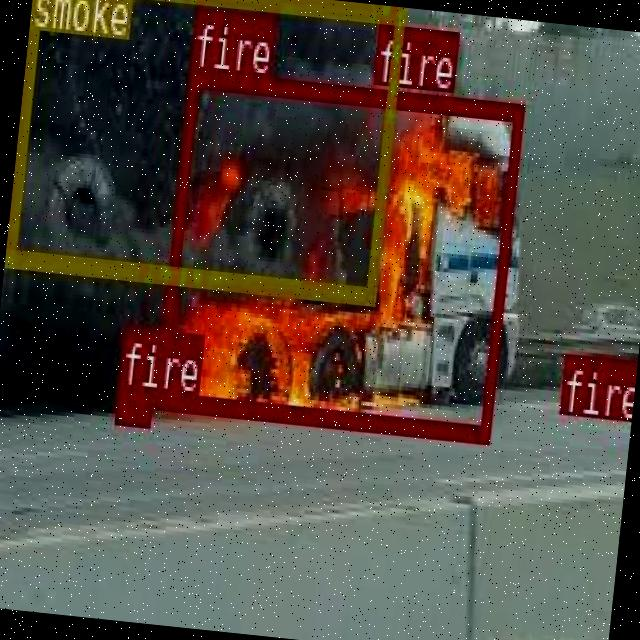fire: (154, 67, 524, 440), (560, 352, 616, 399), (373, 19, 410, 66), (113, 384, 150, 420)
smoke: (4, 0, 402, 302)
